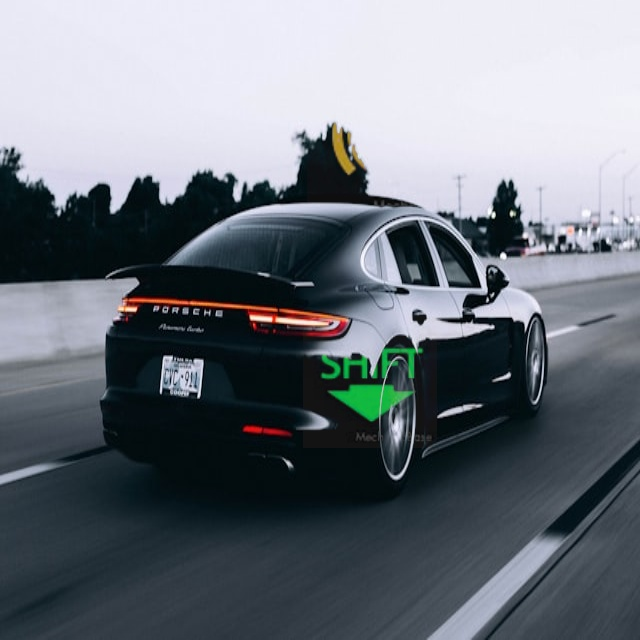symbol: (307, 52, 475, 220), (303, 314, 437, 448)
